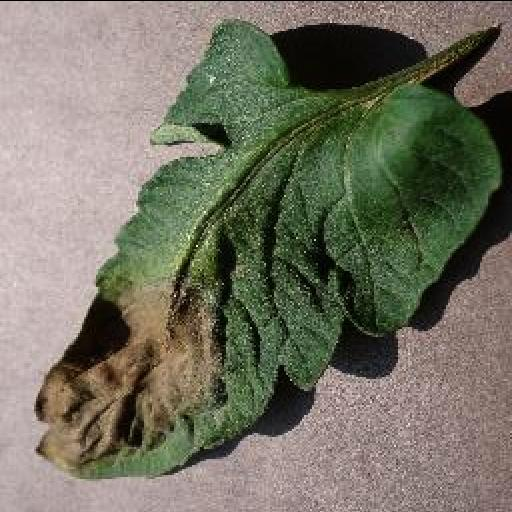disease_tomato: (30, 11, 512, 481)
